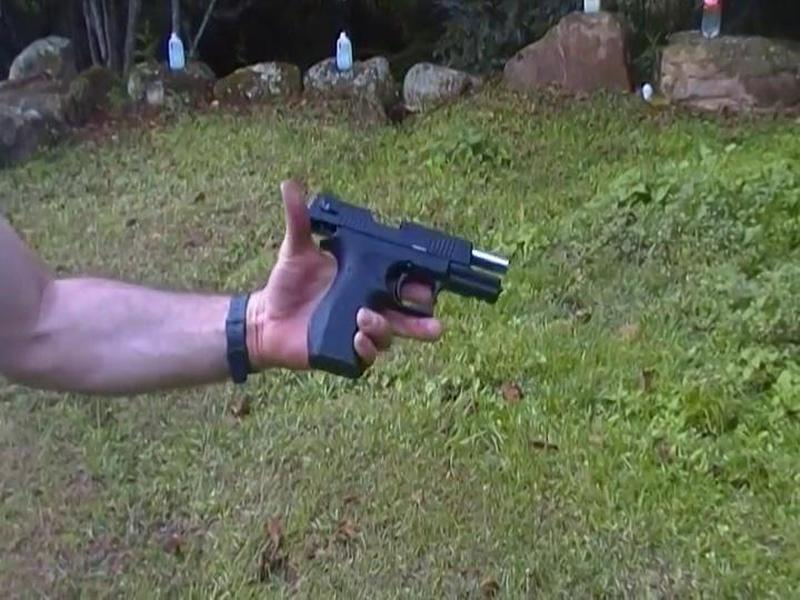Pistola: (302, 189, 516, 383)
